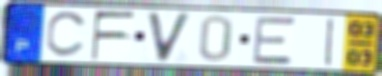0: (196, 14, 235, 64)
C: (44, 10, 91, 60)
E: (251, 16, 297, 66)
F: (90, 10, 138, 62)
I: (322, 16, 337, 68)
V: (144, 11, 195, 64)
